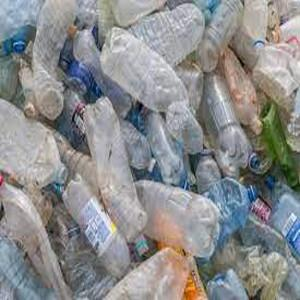Plastic: (62, 177, 129, 279), (101, 27, 186, 106), (203, 71, 251, 173)
